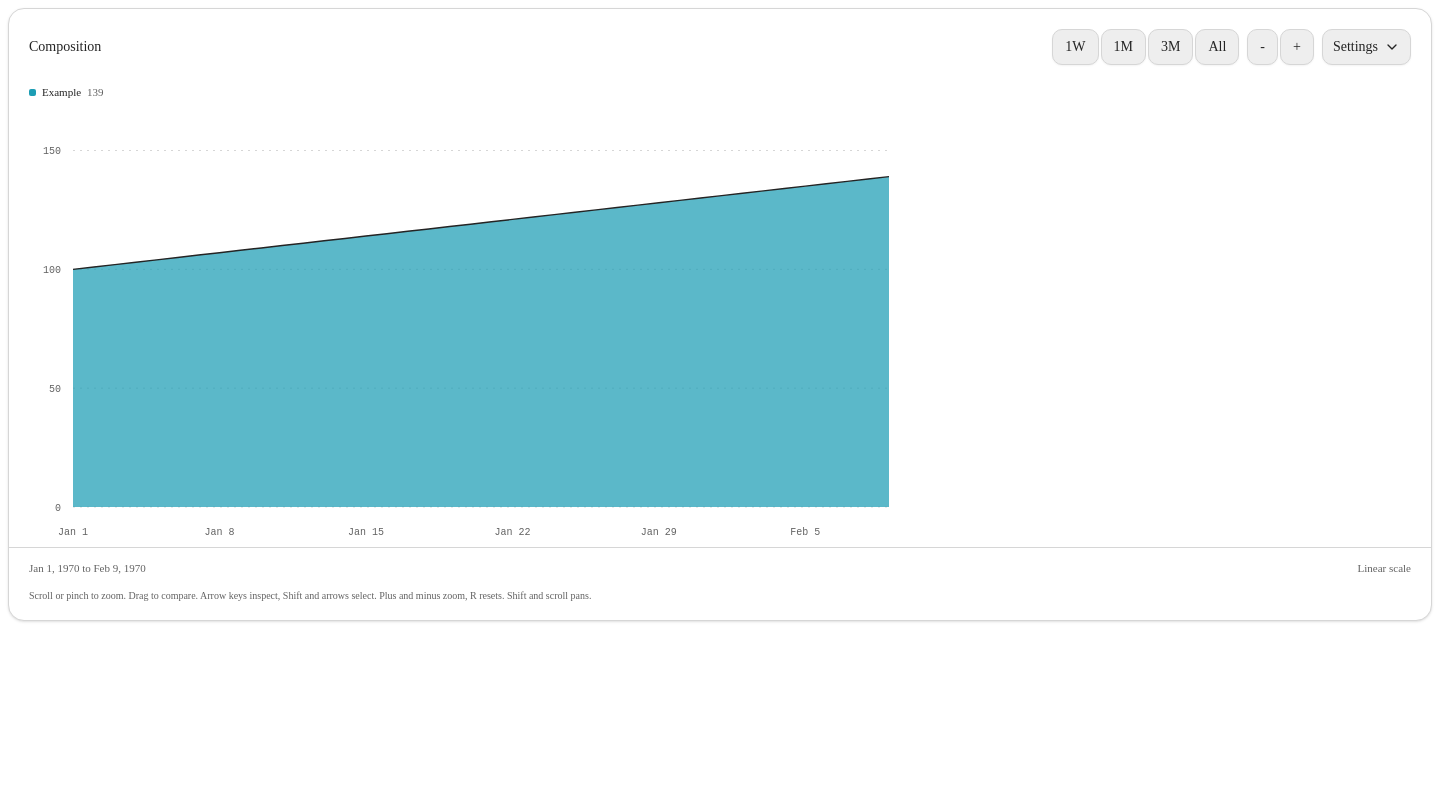
TimeSeriesChart › controls display options without owning persistence
Click the button named "Chart settings" at (1366,47), box [1322, 29, 1411, 65]
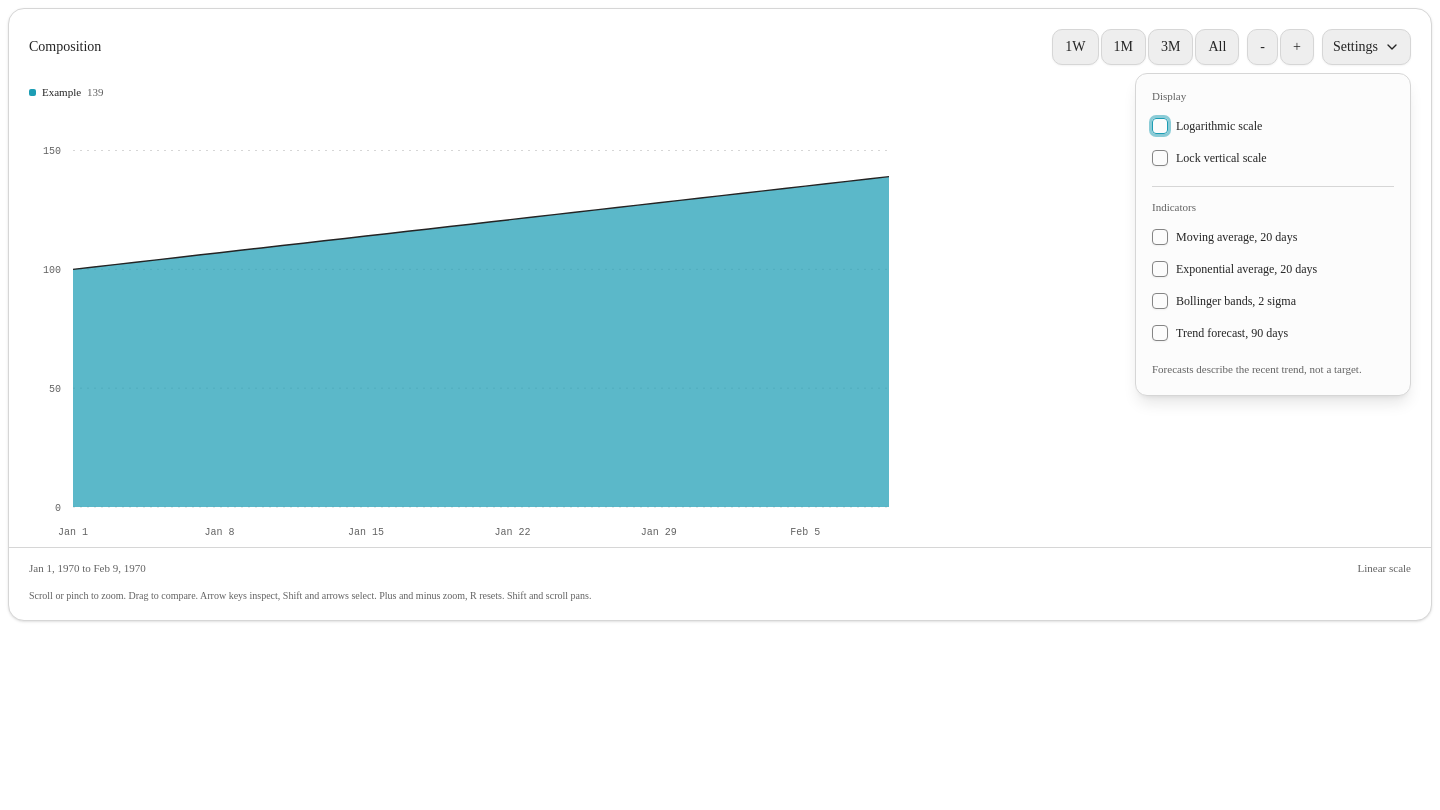
Click the checkbox named "Logarithmic scale" next to "Logarithmic scale" at (1160,126), box [1152, 118, 1168, 134]
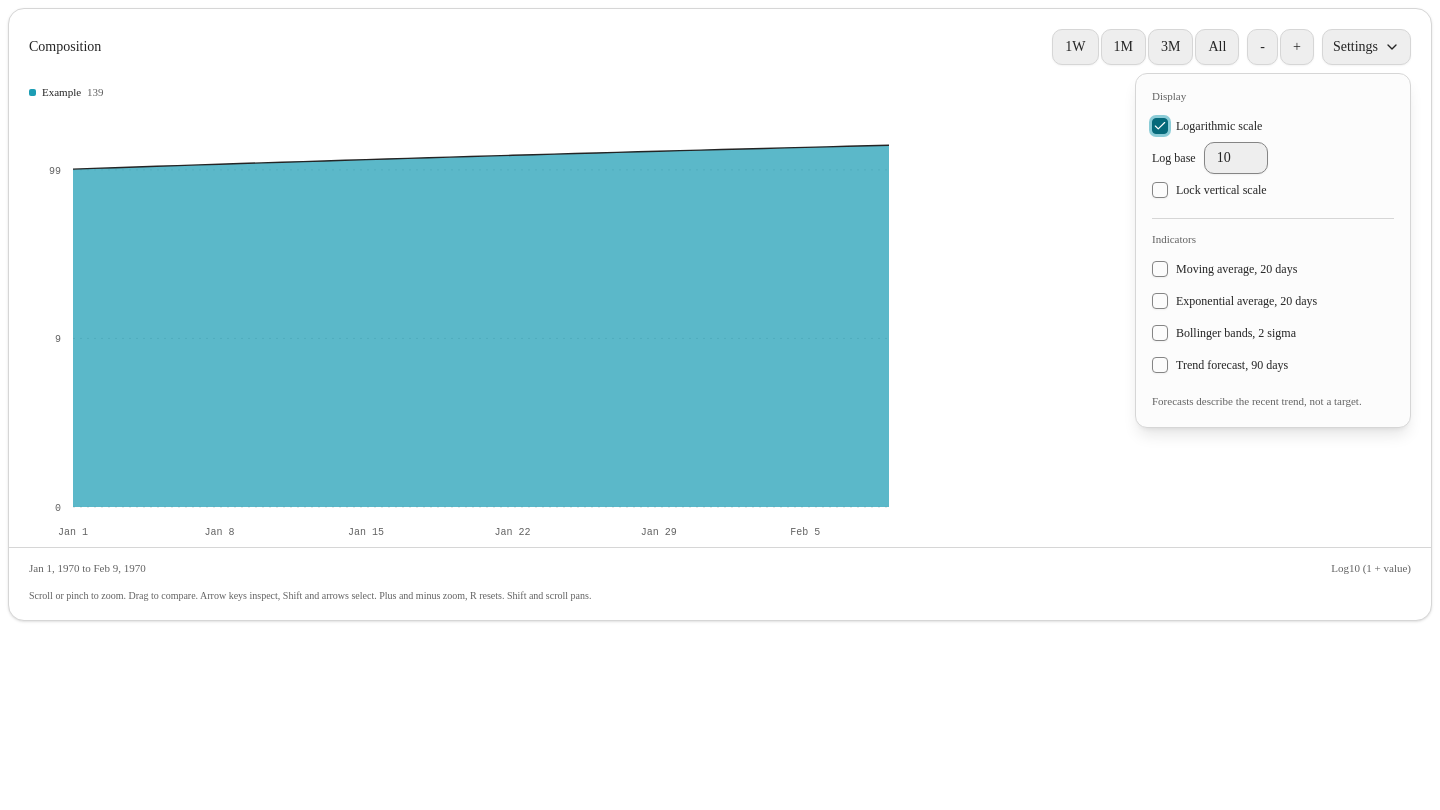
expect the text "Log10 (1 + value)" is shown: met, box [1331, 562, 1411, 574]
Click the checkbox named "Trend forecast, 90 days" next to "Trend forecast, 90 days" at (1160,365), box [1152, 357, 1168, 373]
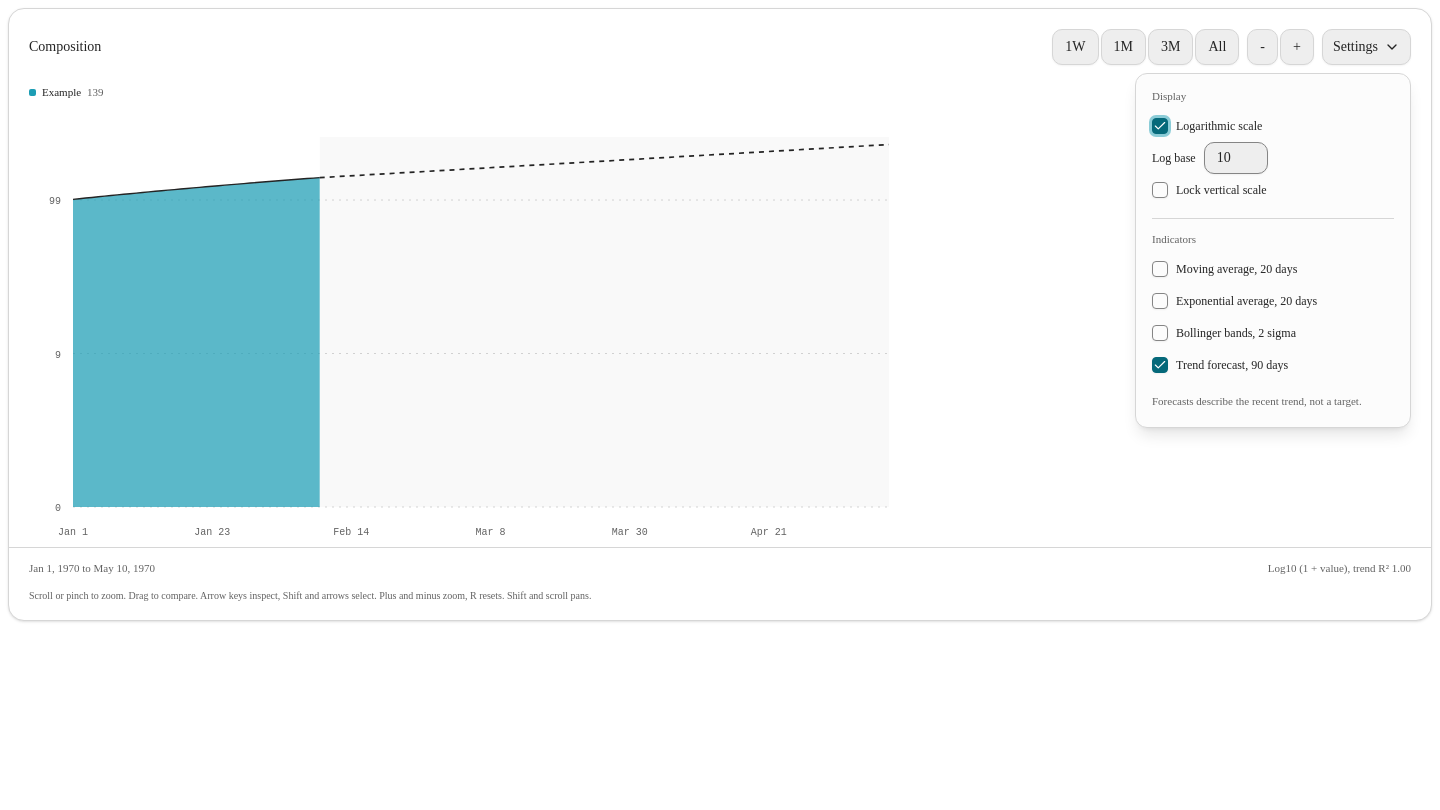
expect the text "Log10 (1 + value), trend R² 1.00" is shown: met, box [1268, 562, 1411, 574]
